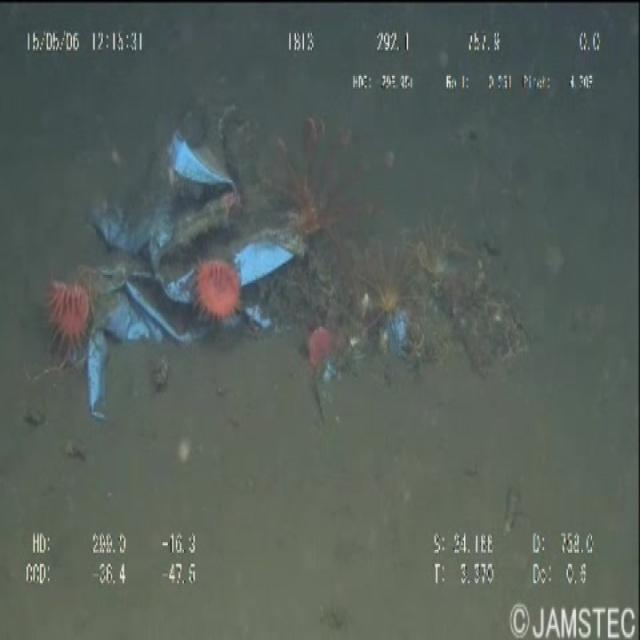Accessories: (74, 84, 408, 425)
